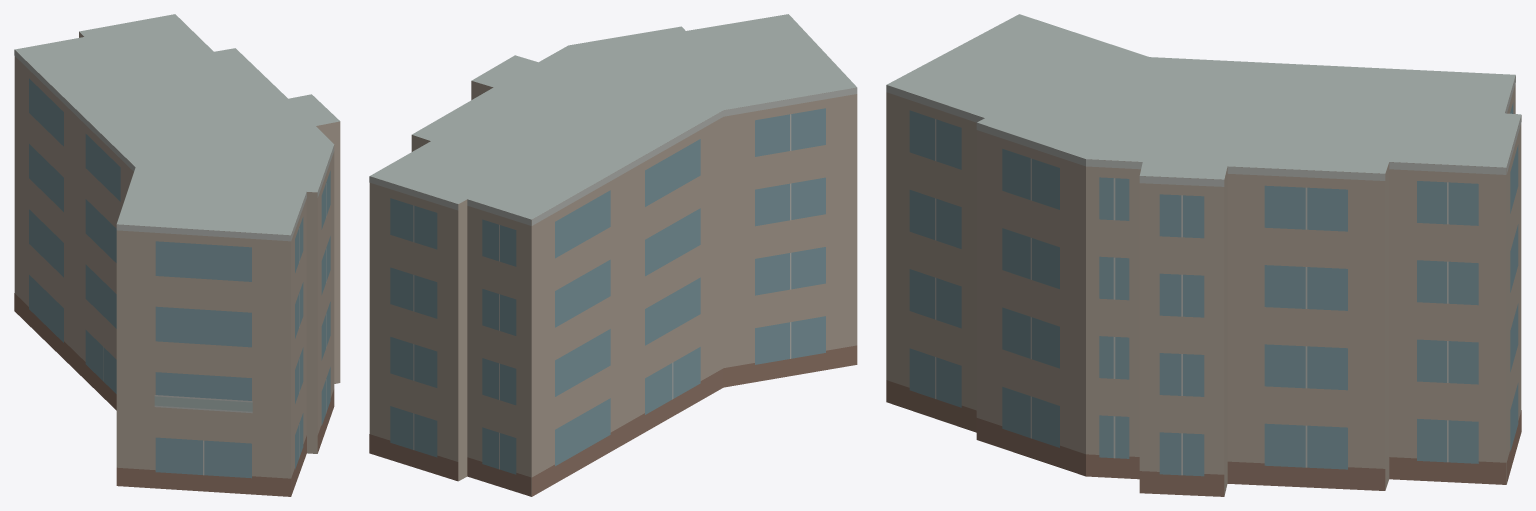
The model's file is survey-upis-32905744.glb.
3 renders of one model, left to right at view 1: azimuth 30°, elevation 25°; view 2: azimuth 150°, elevation 25°; view 3: azimuth 270°, elevation 25°, orthographic. The views are drawn at different scales.
Parts seen in each view (by area): view 1: survey-upis-32905744.tmp; view 2: survey-upis-32905744.tmp; view 3: survey-upis-32905744.tmp.
Boxes of the visible parts, x1,y1,x2,y2 form: survey-upis-32905744.tmp: [14, 14, 340, 496]; survey-upis-32905744.tmp: [369, 14, 857, 496]; survey-upis-32905744.tmp: [886, 14, 1521, 496].
Size of the model in its own units: 11.76 by 10.5 by 19.06.
